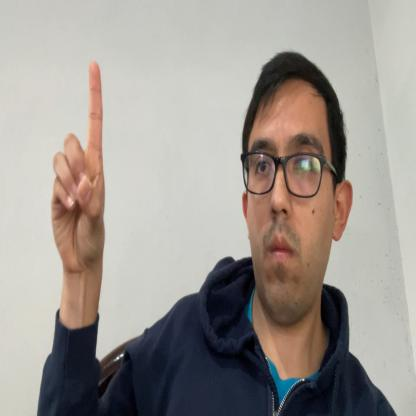D: (51, 61, 105, 276)
